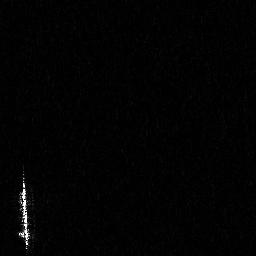ship: (16, 165, 37, 252)
